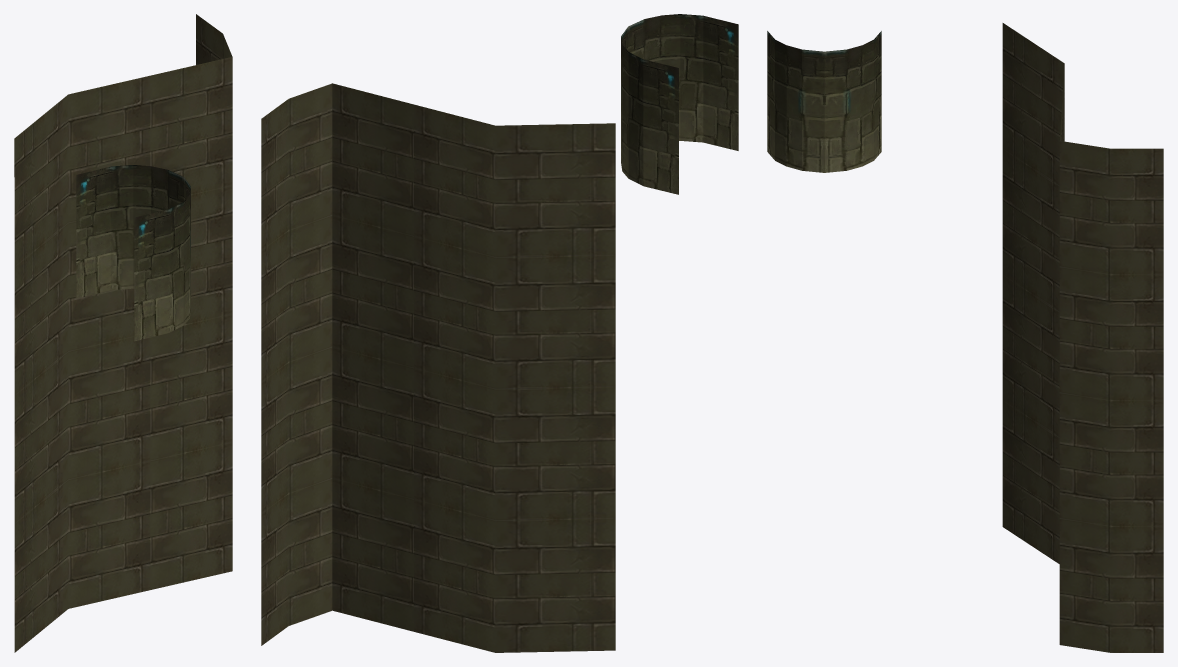
The model's file is Yx_qiangzhu01.FBX.
The picture shows the model from 3 angles, left to right: view 1: azimuth 30°, elevation 25°; view 2: azimuth 150°, elevation 25°; view 3: azimuth 270°, elevation 25°; orthographic projection. The views are drawn at different scales.
Visible parts, largest first — view 1: Yx_qiangzhu01_001, Yx_qiangzhu01_002; view 2: Yx_qiangzhu01_001, Yx_qiangzhu01_002; view 3: Yx_qiangzhu01_001, Yx_qiangzhu01_002.
Boxes of the visible parts, x1,y1,x2,y2 form: Yx_qiangzhu01_001: (14,14,232,652); Yx_qiangzhu01_002: (76,165,190,341); Yx_qiangzhu01_001: (261,83,615,652); Yx_qiangzhu01_002: (621,14,738,194); Yx_qiangzhu01_001: (1002,23,1163,652); Yx_qiangzhu01_002: (767,31,881,172).
Size of the model in its own units: 1274 by 2414 by 1690.
